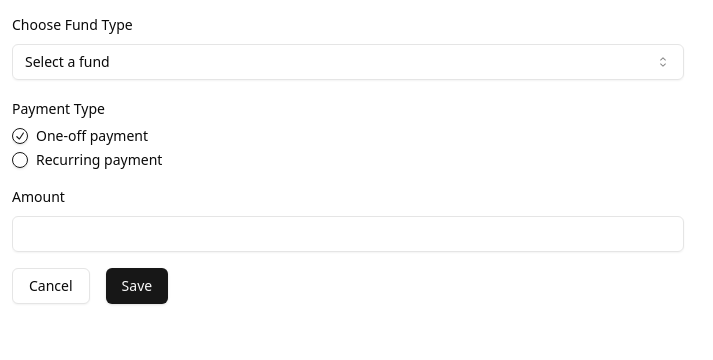
Test: ApplyForm › Form Submission › should show error for amounts exceeding £20,000
Click the dropdown named "FundType" at (67, 62), box [12,44,684,80]
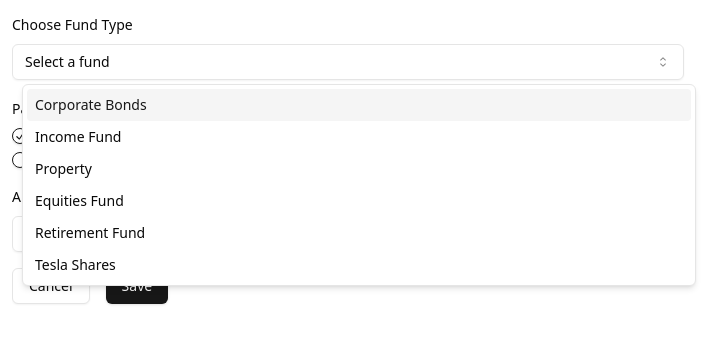
Click the option "Equities Fund" at (79, 200), box [35,191,124,210]
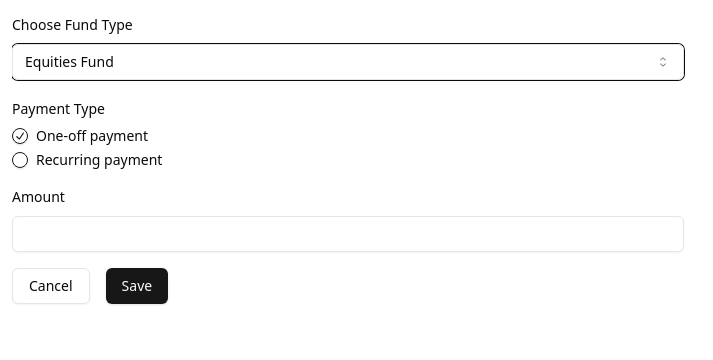
Type "25000" into the number field labelled "Amount" at (348, 234), box [12,216,684,252]
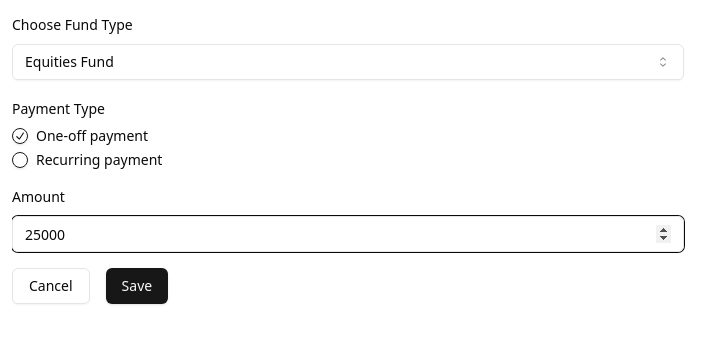
Click the button "Save" at (137, 286), box [106,268,168,304]
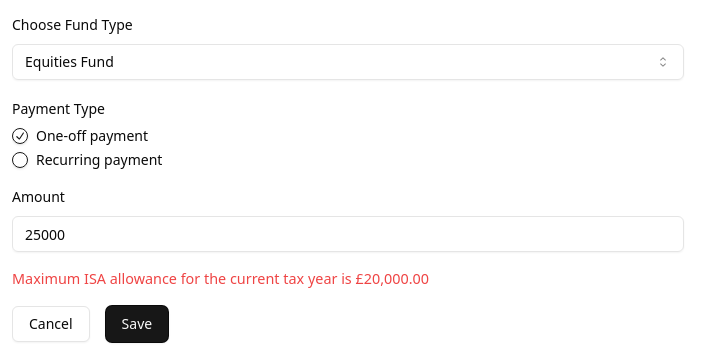
Now the text "Maximum ISA allowance for the current tax year is £20,000.00" is shown, box [12,269,429,288]
